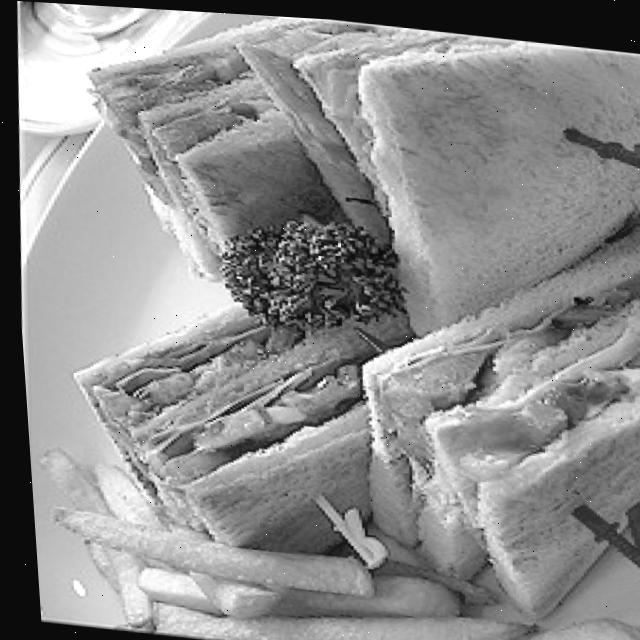三明治: (20, 1, 640, 572)
